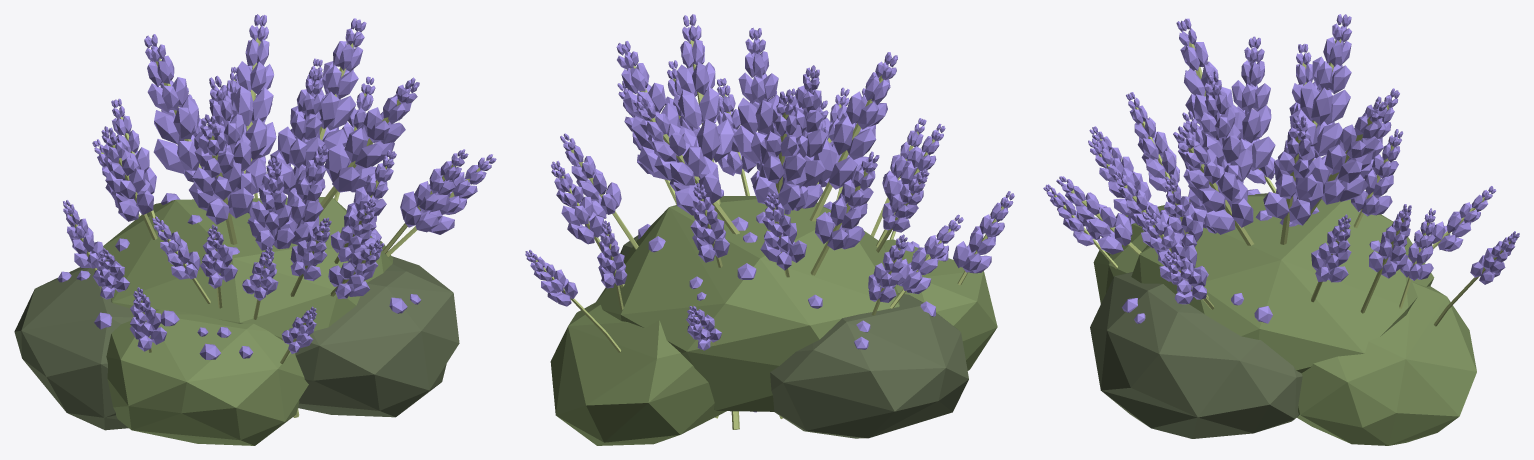
The model's file is Lavender Unharvested.fbx.
The picture shows the model from 3 angles, left to right: view 1: azimuth 30°, elevation 25°; view 2: azimuth 150°, elevation 25°; view 3: azimuth 270°, elevation 25°; orthographic projection.
Visible parts, largest first — view 1: pPlatonic25; view 2: pPlatonic25; view 3: pPlatonic25.
Part boxes in pixels (<box>): pPlatonic25: <box>14,14,496,445</box>; pPlatonic25: <box>525,14,1014,445</box>; pPlatonic25: <box>1043,14,1519,445</box>.
Size of the model in its own units: 1.16 by 0.995 by 1.21.
